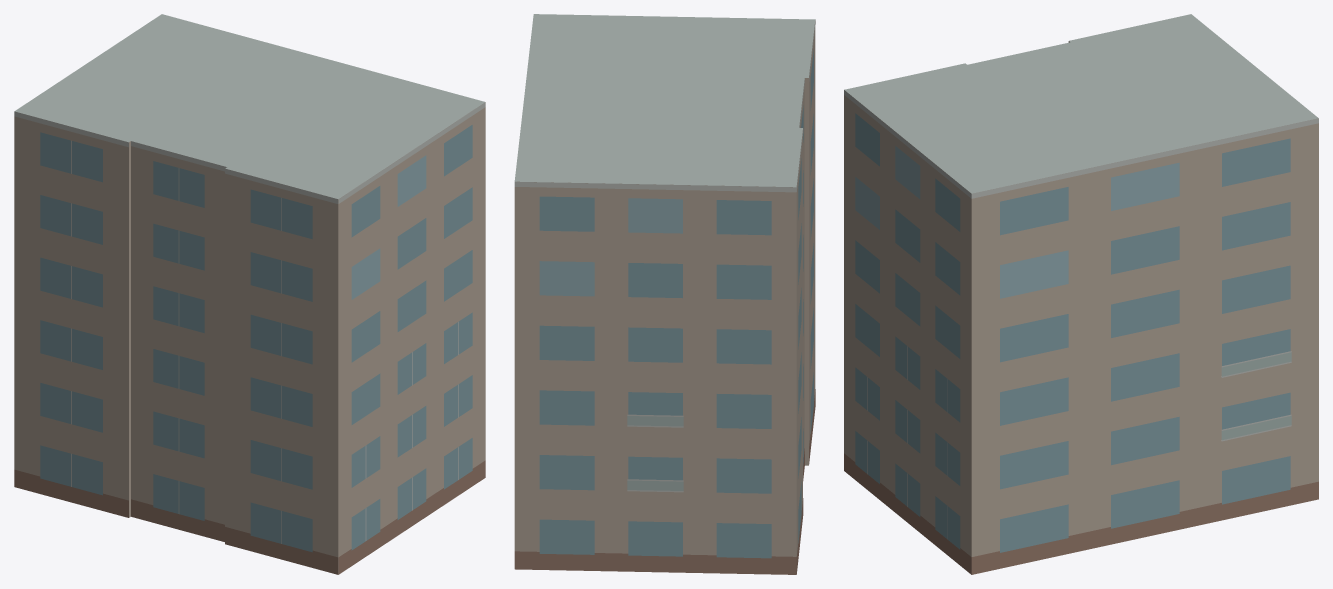
The model's file is survey-upis-32954075.glb.
The picture shows the model from 3 angles, left to right: view 1: azimuth 30°, elevation 25°; view 2: azimuth 150°, elevation 25°; view 3: azimuth 270°, elevation 25°; orthographic projection. The views are drawn at different scales.
Parts seen in each view (by area): view 1: survey-upis-32954075.tmp; view 2: survey-upis-32954075.tmp; view 3: survey-upis-32954075.tmp.
Boxes of the visible parts, left/top/right/bottom form: survey-upis-32954075.tmp: left=14, top=14, right=485, bottom=574; survey-upis-32954075.tmp: left=514, top=14, right=815, bottom=574; survey-upis-32954075.tmp: left=844, top=14, right=1318, bottom=574.
Size of the model in its own units: 18.52 by 18.3 by 20.67.
